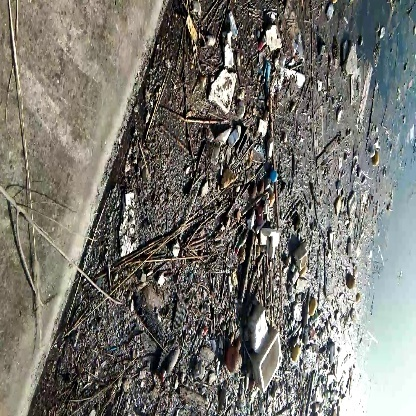branch: (108, 213, 214, 271)
plastic-garbage: (245, 304, 291, 390)
